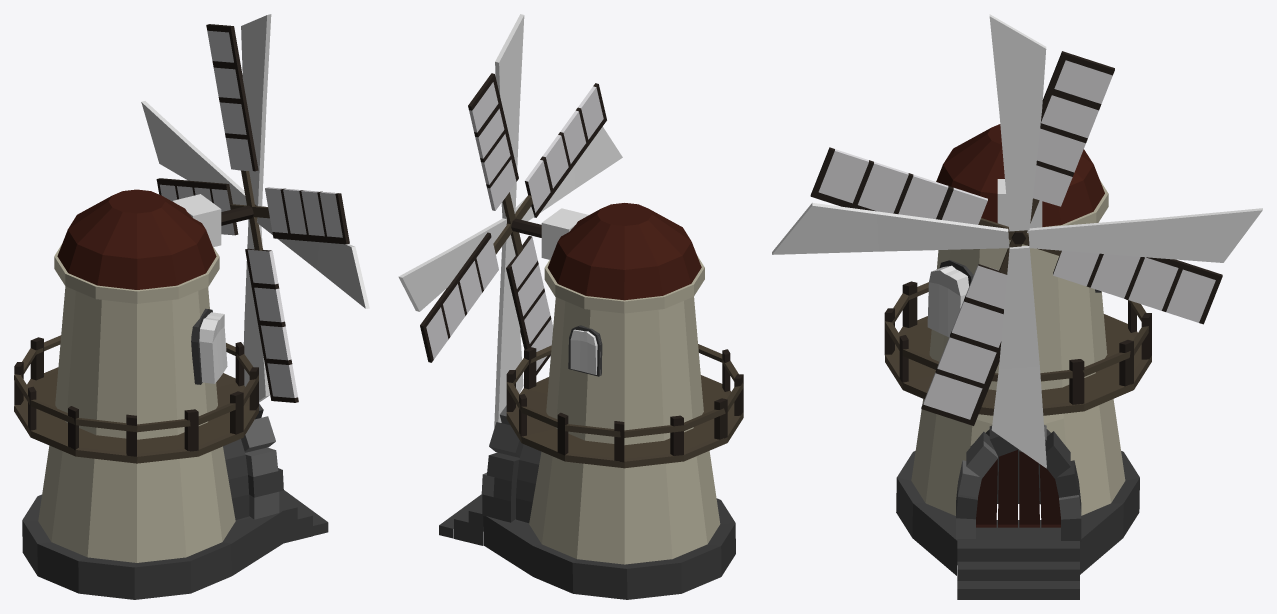
Rendered from SK_Mill.fbx.
3 renders of one model, left to right at view 1: azimuth 30°, elevation 25°; view 2: azimuth 150°, elevation 25°; view 3: azimuth 270°, elevation 25°, orthographic. The views are drawn at different scales.
Parts seen in each view (by area): view 1: Cylinder, dach, ka.001, Cylinder.003, Cube.013, Cylinder.002, Cube.015, mauer.001, mauer, möp, treppe, Cube.002 (+5 smaller); view 2: Cylinder, Cube.013, dach, ka.001, Cylinder.003, Cylinder.002, Cube.015, mauer, treppe, Cube.002, möp2, Cube.014 (+4 smaller); view 3: ka.001, Cube.013, Cylinder, Cylinder.002, treppe, Cylinder.003, Cube.015, dach, tür, mauer, mauer.001, möp (+4 smaller).
Boxes of the visible parts, <box> form: Cylinder: <box>38,243,235,562</box>; dach: <box>57,189,216,289</box>; ka.001: <box>141,14,369,402</box>; Cylinder.003: <box>22,494,282,599</box>; Cube.013: <box>160,30,342,397</box>; Cylinder.002: <box>14,335,258,463</box>; Cube.015: <box>156,24,349,402</box>; mauer.001: <box>241,416,279,519</box>; mauer: <box>223,403,283,519</box>; möp: <box>199,312,227,383</box>; treppe: <box>279,490,328,543</box>; Cube.002: <box>172,194,221,246</box>; Cylinder: <box>529,255,720,564</box>; Cube.013: <box>426,82,603,370</box>; dach: <box>547,203,701,300</box>; ka.001: <box>398,14,622,427</box>; Cylinder.003: <box>483,498,735,599</box>; Cylinder.002: <box>506,344,743,468</box>; Cube.015: <box>420,73,606,375</box>; mauer: <box>482,422,541,522</box>; treppe: <box>439,494,483,545</box>; Cube.002: <box>541,208,588,259</box>; möp2: <box>570,329,597,374</box>; Cube.014: <box>493,192,532,255</box>; ka.001: <box>772,14,1262,468</box>; Cube.013: <box>818,60,1215,419</box>; Cylinder: <box>911,180,1125,515</box>; Cylinder.002: <box>885,282,1151,415</box>; treppe: <box>957,540,1079,599</box>; Cylinder.003: <box>896,444,1139,575</box>; Cube.015: <box>810,51,1222,425</box>; dach: <box>936,124,1104,226</box>; tür: <box>976,450,1060,527</box>; mauer: <box>956,425,1081,541</box>; mauer.001: <box>956,425,1081,538</box>; möp: <box>927,265,968,337</box>.
Size of the model in its own units: 315 by 579 by 458.
